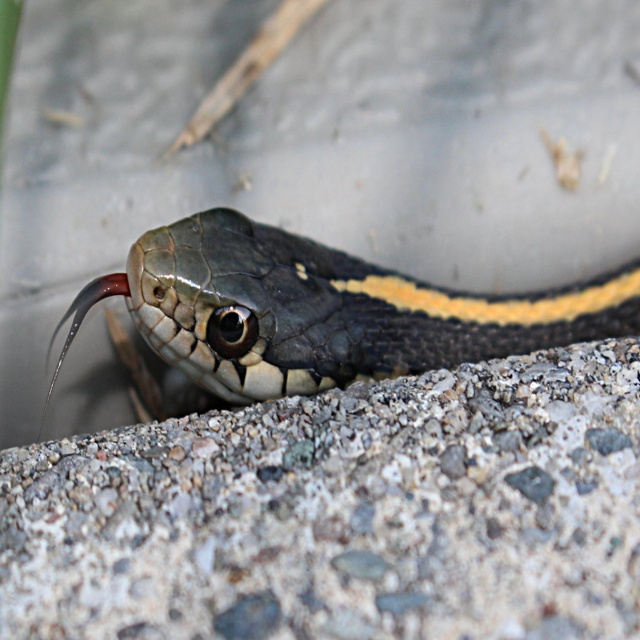Snake: (36, 207, 640, 443)
